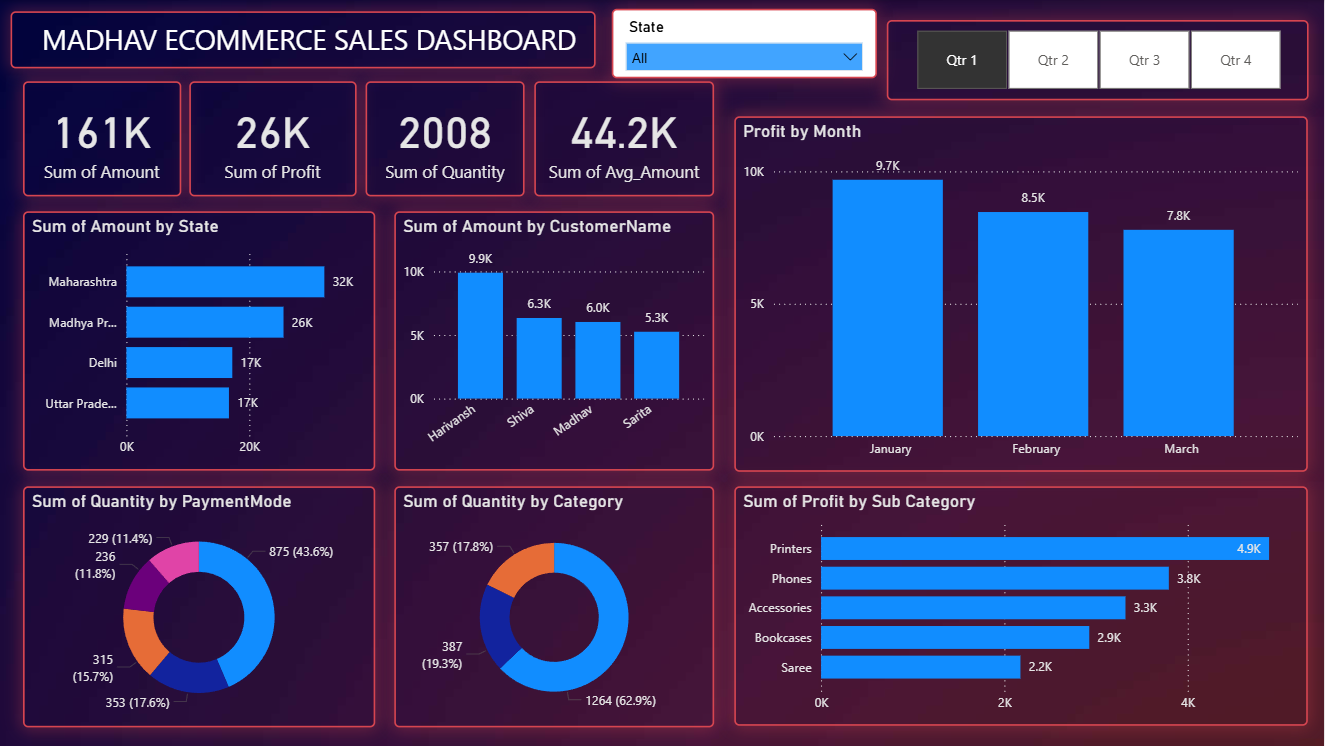

The dashboard page shown, as its layout file describes it:
{"tool":"powerbi","page":{"name":"Page 1","canvas":[1280,720],"ordinal":0},"visuals":[{"type":"textbox","box":[12.5,11.2,565,55],"z":0},{"type":"columnChart","title":"Profit by Month","fields":{"Category":["Orders Data.Order Date.Variation.Date Hierarchy.Month"],"Y":["Details.Profit"]},"box":[710.8,111.8,553.3,342.9],"z":1000},{"type":"clusteredBarChart","title":"Sum of Profit by Sub Category","fields":{"Category":["Details.Sub-Category"],"Y":["Details.Profit"]},"box":[710.8,469.4,553.3,231],"z":2000},{"type":"donutChart","fields":{"Category":["Details.Category"],"Y":["Details.Quantity"]},"box":[382.6,469.4,309,232.5],"z":3000},{"type":"donutChart","fields":{"Category":["Details.PaymentMode"],"Y":["Details.Quantity"]},"box":[23.5,469.4,339.9,232.5],"z":4000},{"type":"clusteredBarChart","fields":{"Category":["Orders Data.State"],"Y":["Details.Amount"]},"box":[23.8,203.8,340,250],"z":5000},{"type":"columnChart","fields":{"Category":["Orders Data.CustomerName"],"Y":["Details.Amount"]},"box":[382.5,203.8,308.8,250],"z":6000},{"type":"card","fields":{"Values":["Details.Amount"]},"box":[23.8,78.8,152.5,111.2],"z":7000},{"type":"card","fields":{"Values":["Details.Profit"]},"box":[185,78.8,161.2,111.2],"z":8000},{"type":"card","fields":{"Values":["Details.Avg_Amount"]},"box":[517.5,78.8,173.8,111.2],"z":9000},{"type":"card","fields":{"Values":["Details.Quantity"]},"box":[355,78.8,153.8,111.2],"z":10000},{"type":"slicer","fields":{"Values":["Orders Data.Order Date.Variation.Date Hierarchy.Quarter"]},"box":[857.5,18.8,407.5,77.5],"z":11000},{"type":"slicer","fields":{"Values":["Orders Data.State"]},"box":[592.5,8.8,256.2,67.5],"z":12000}]}

Visuals, with their boxes in screenshot pixels (x1, y1, x2, y2), scaled from the page's 1280x720 canvas onto the 1325x746 screenshot:
textbox: (left=13, top=12, right=598, bottom=69)
"Profit by Month" columnChart: (left=736, top=116, right=1309, bottom=471)
"Sum of Profit by Sub Category" clusteredBarChart: (left=736, top=486, right=1309, bottom=726)
donutChart - Details.Category x Details.Quantity: (left=396, top=486, right=716, bottom=727)
donutChart - Details.PaymentMode x Details.Quantity: (left=24, top=486, right=376, bottom=727)
clusteredBarChart - Orders Data.State x Details.Amount: (left=25, top=211, right=377, bottom=470)
columnChart - Orders Data.CustomerName x Details.Amount: (left=396, top=211, right=716, bottom=470)
card - Details.Amount: (left=25, top=82, right=182, bottom=197)
card - Details.Profit: (left=192, top=82, right=358, bottom=197)
card - Details.Avg_Amount: (left=536, top=82, right=716, bottom=197)
card - Details.Quantity: (left=367, top=82, right=527, bottom=197)
slicer - Orders Data.Order Date.Variation.Date Hierarchy.Quarter: (left=888, top=19, right=1309, bottom=100)
slicer - Orders Data.State: (left=613, top=9, right=879, bottom=79)
